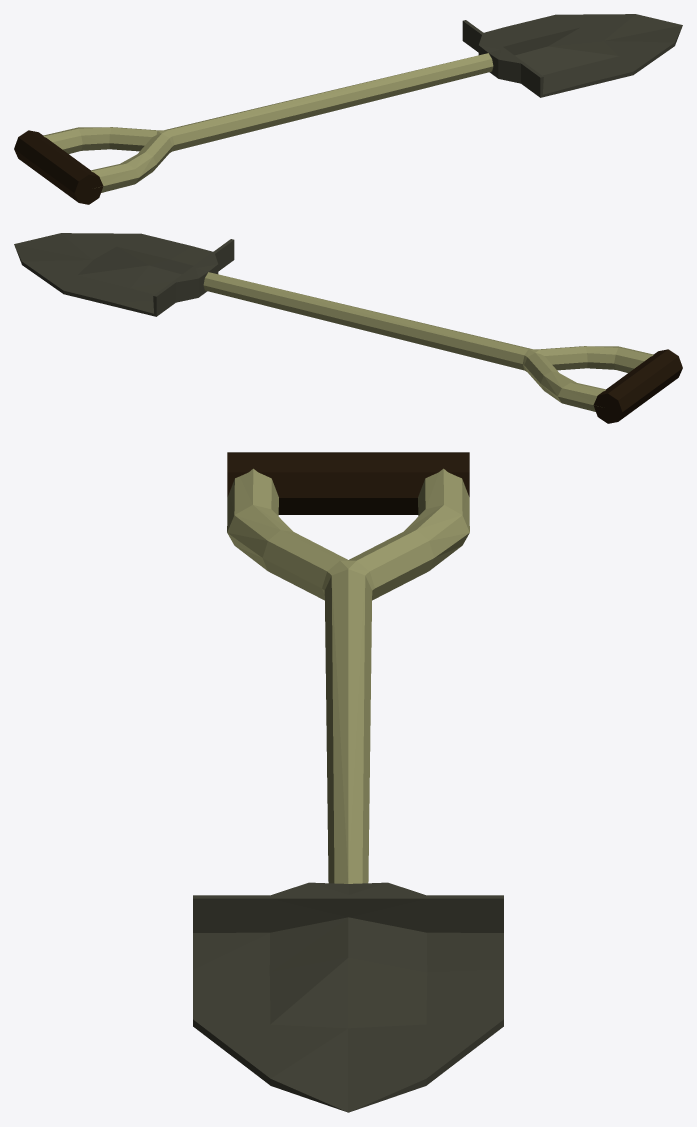
The model's file is Pelle.FBX.
3 renders of one model, top to bottom at view 1: azimuth 30°, elevation 25°; view 2: azimuth 150°, elevation 25°; view 3: azimuth 270°, elevation 25°, orthographic. The views are drawn at different scales.
Visible parts, largest first — view 1: Plane018; view 2: Plane018; view 3: Plane018.
Part boxes in pixels (<box>): Plane018: <box>14,14,682,204</box>; Plane018: <box>14,233,682,423</box>; Plane018: <box>193,452,503,1112</box>.
Size of the model in its own units: 3.76 by 0.1705 by 0.7929.
